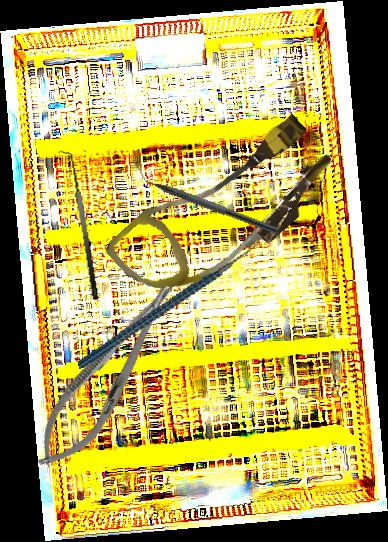Cannula: (102, 93, 347, 329)
Chopper: (55, 226, 286, 370), (130, 164, 284, 236)
Needle Holder: (21, 264, 197, 483)
Spatula Surgical: (58, 147, 101, 303)
